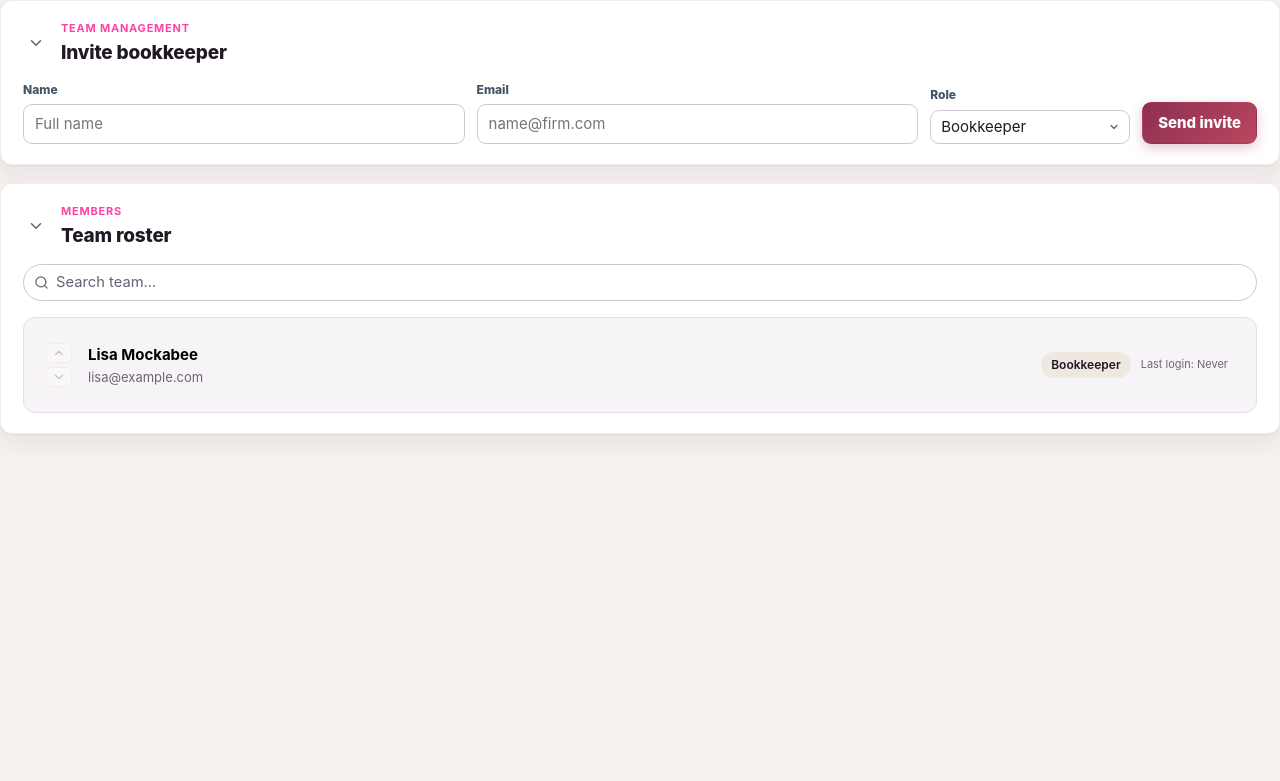
Team page rate history › defaults the bill rate’s effective-from to the current month
The width and height of the screenshot is (1280, 781).
Click the button with class "team-card-header": (143, 354) [72, 330, 1244, 400]
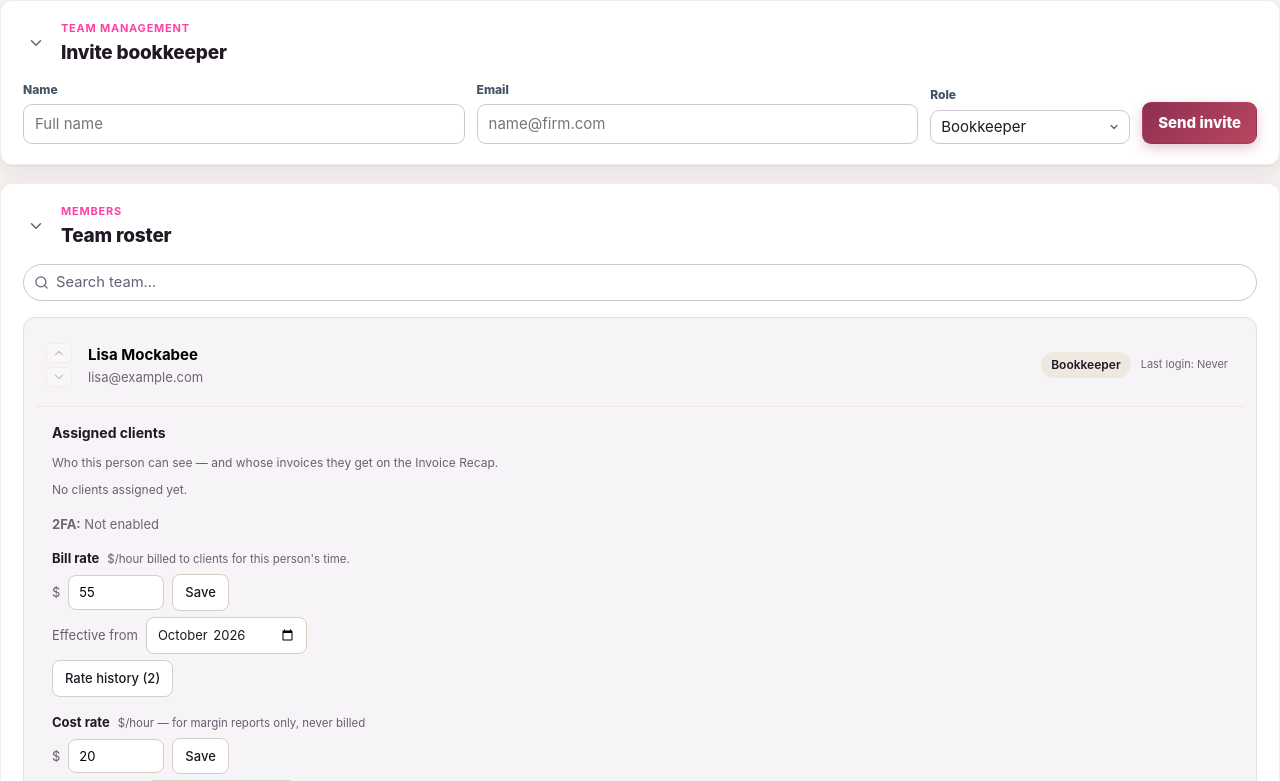
Expected: the text "Bill rate" is shown, [52, 549, 99, 568]
Expected: the field labelled "Effective from" holds "2026-10", [146, 617, 307, 654]
